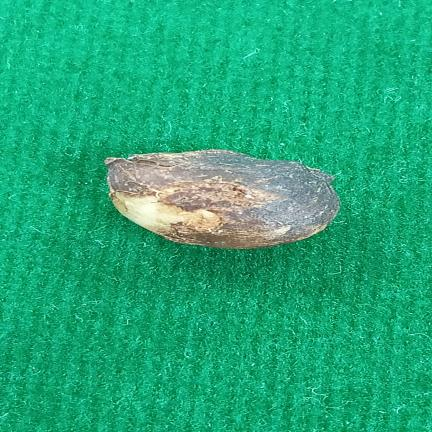husk: (106, 150, 339, 249)
